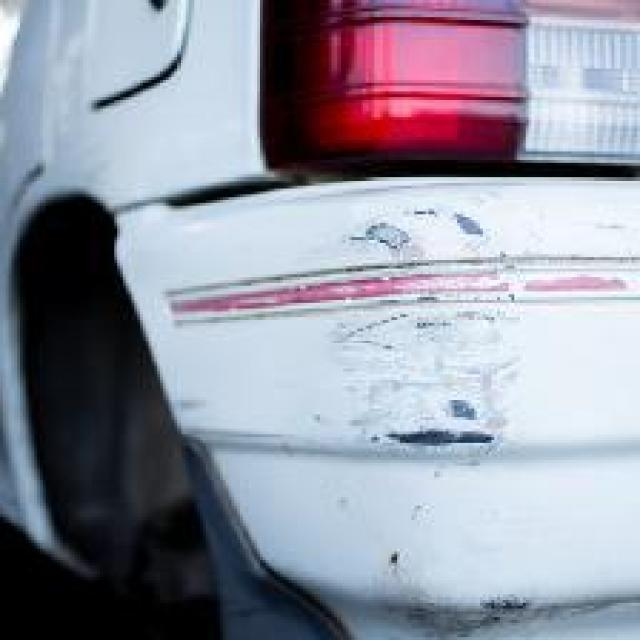damaged: (306, 205, 638, 638)
